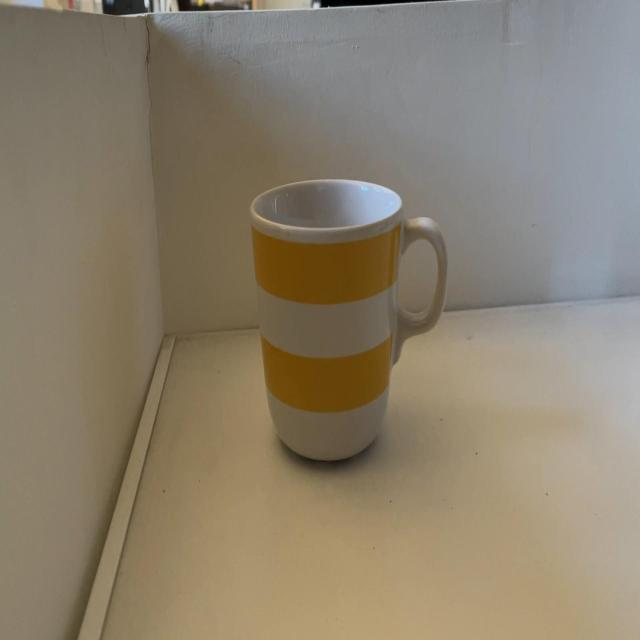cup: (240, 176, 463, 468)
